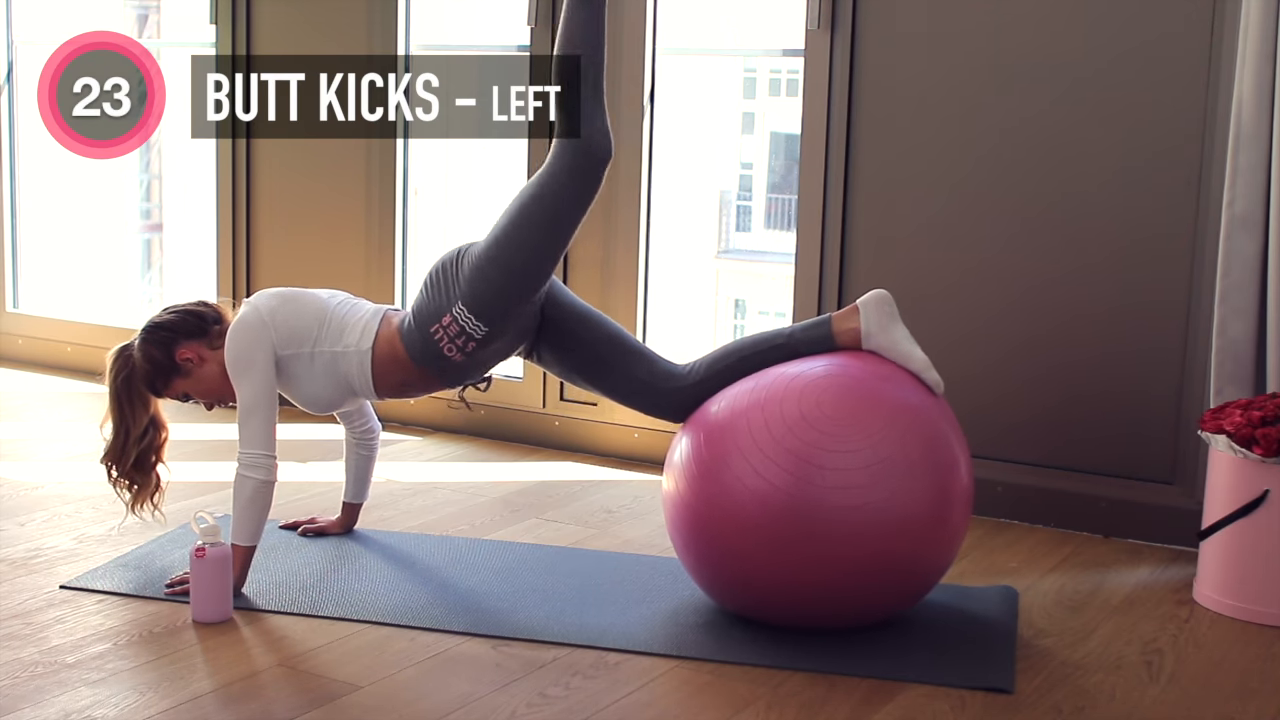yogaball: (659, 349, 984, 647)
